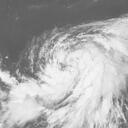cyclone: (23, 24, 106, 109)
